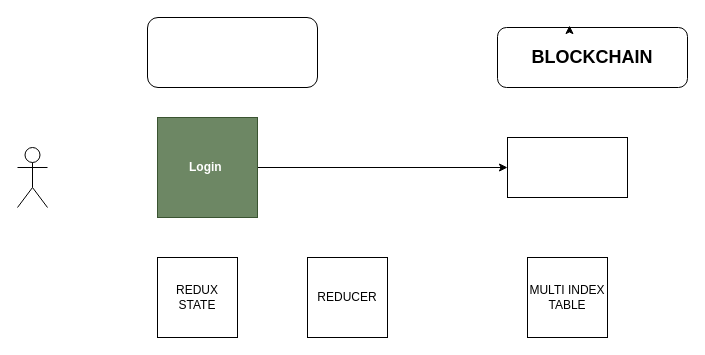
This 705x355 diagram has some shape labels left out. Each missing label, with the box of its shape:
Actor: (16, 146, 48, 208)
FRONT END: (146, 16, 318, 88)
Smart Contract: (506, 136, 628, 198)
